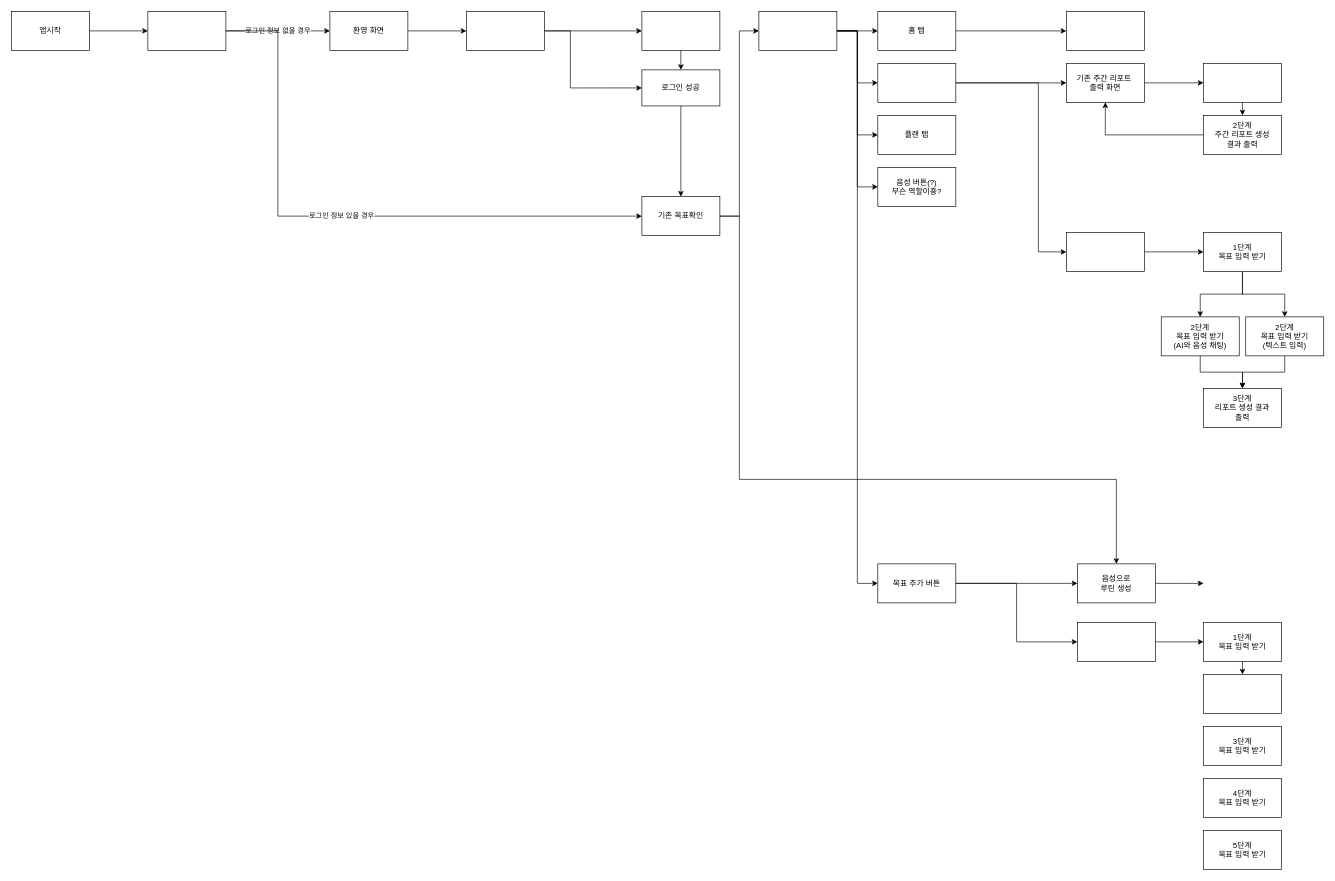
Some shapes in this 1335 by 881 pixel diagram are drawn without their labels. Here are the shapes that lost their labels. From the top down, the centre of each, then its label:
[186,30]: 기존 로그인 정보 확인
[505,30]: 로그인 화면
[680,30]: 회원 가입 화면
[797,30]: 메인 화면(홈 탭)
[1105,30]: 프로필 & 사용자 설정
[916,82]: 리포트 탭
[1242,82]: 1단계 일간 리포트 종합
[1105,251]: 기존 일간 리포트 출력 화면
[1116,641]: 텍스트로 루틴 생성
[1242,693]: 2단계 목표 입력 받기
